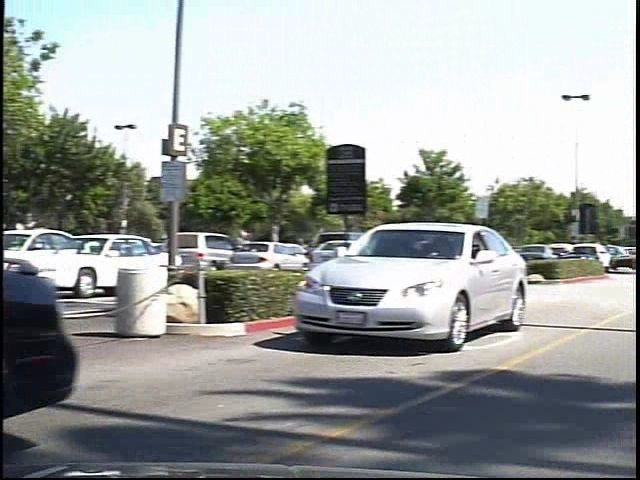person: (238, 221, 266, 272)
